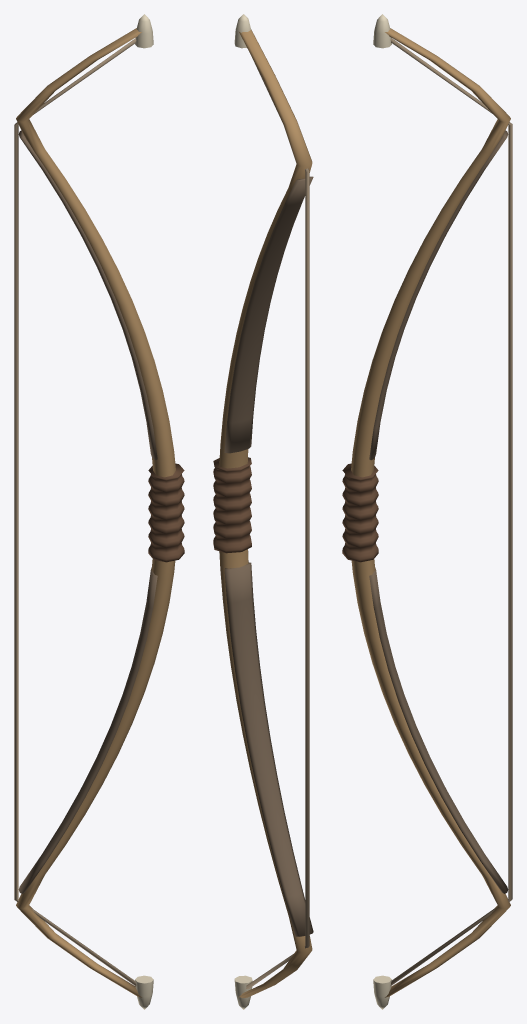
Rendered from composite-longbow.glb.
The picture shows the model from 3 angles, left to right: view 1: azimuth 90°, elevation 25°; view 2: azimuth 210°, elevation 25°; view 3: azimuth 270°, elevation 25°; orthographic projection.
Visible parts, largest first — view 1: composite-longbow; view 2: composite-longbow; view 3: composite-longbow.
Boxes of the visible parts, left/top/right/bottom form: composite-longbow: left=14, top=14, right=184, bottom=1009; composite-longbow: left=213, top=14, right=313, bottom=1009; composite-longbow: left=342, top=14, right=512, bottom=1009.
Bounding box in the file's own units: 0.1385 × 3.6 × 0.5576.
